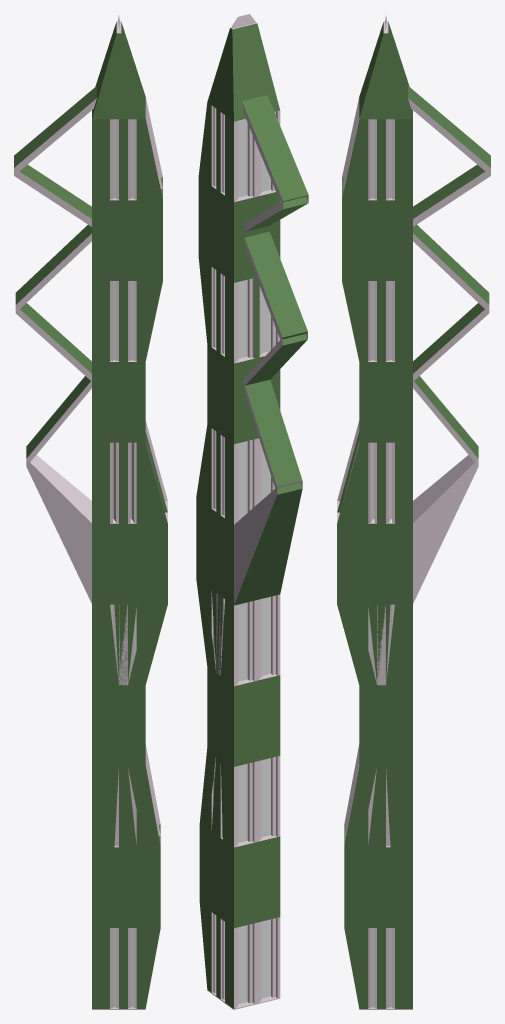
The model's file is whitter_tower.fbx.
The picture shows the model from 3 angles, left to right: view 1: azimuth 90°, elevation 25°; view 2: azimuth 210°, elevation 25°; view 3: azimuth 270°, elevation 25°; orthographic projection.
Parts seen in each view (by area): view 1: Cube; view 2: Cube; view 3: Cube.
Boxes of the visible parts, <box> form: Cube: <box>14,15,167,1009</box>; Cube: <box>196,14,308,1009</box>; Cube: <box>337,15,490,1009</box>.
Size of the model in its own units: 100 by 2023 by 287.
